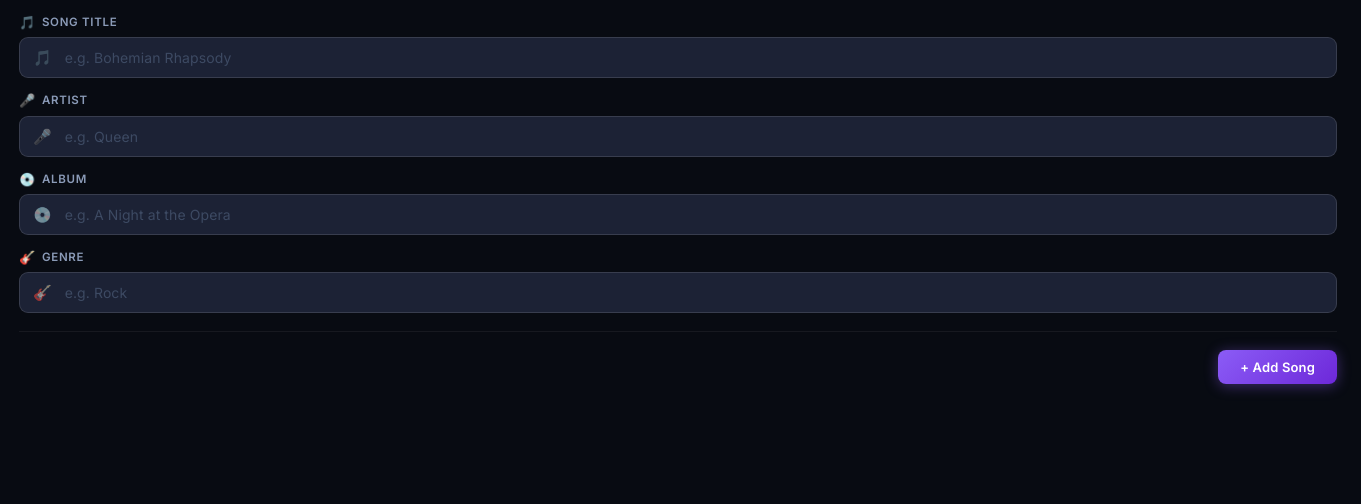
Scenario: SongForm › shows validation errors for empty fields on submit
The image size is (1361, 504).
Click the button "+ Add Song".
click(1278, 367)  # box [1218, 350, 1337, 384]
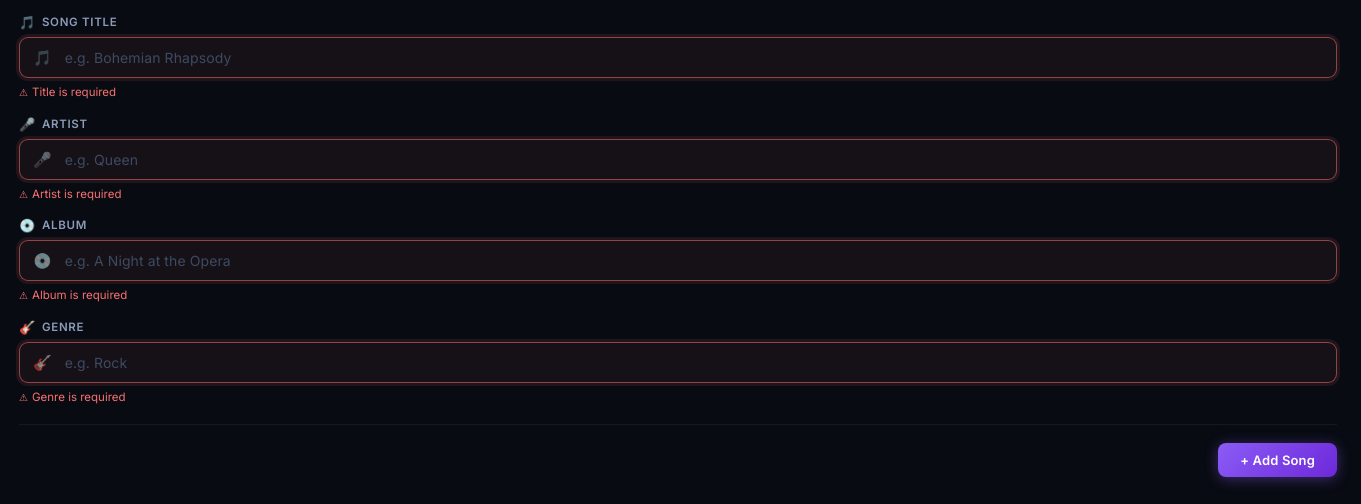
Check: the text "Title is required" is shown, box [32, 85, 116, 99]
Check: the text "Artist is required" is shown, box [32, 187, 122, 201]
Check: the text "Album is required" is shown, box [32, 288, 127, 302]
